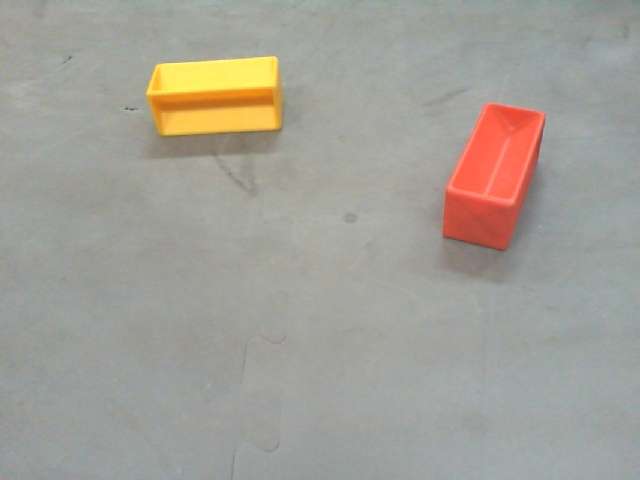RedSample: (442, 102, 547, 254)
YellowSample: (145, 55, 283, 140)
